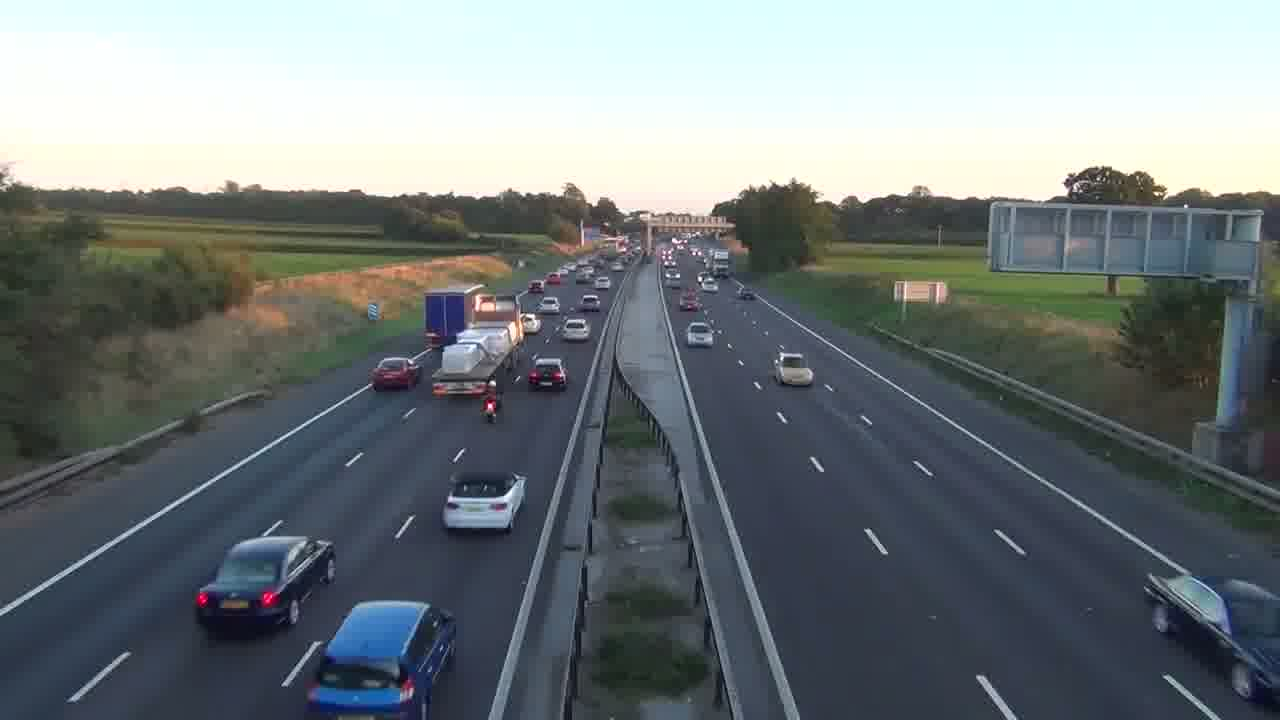car: (303, 598, 458, 717), (442, 470, 528, 534), (370, 356, 422, 390), (529, 356, 569, 391), (686, 320, 715, 349), (559, 318, 591, 342)
truck: (1142, 570, 1280, 707), (194, 520, 337, 639), (771, 346, 815, 388)
